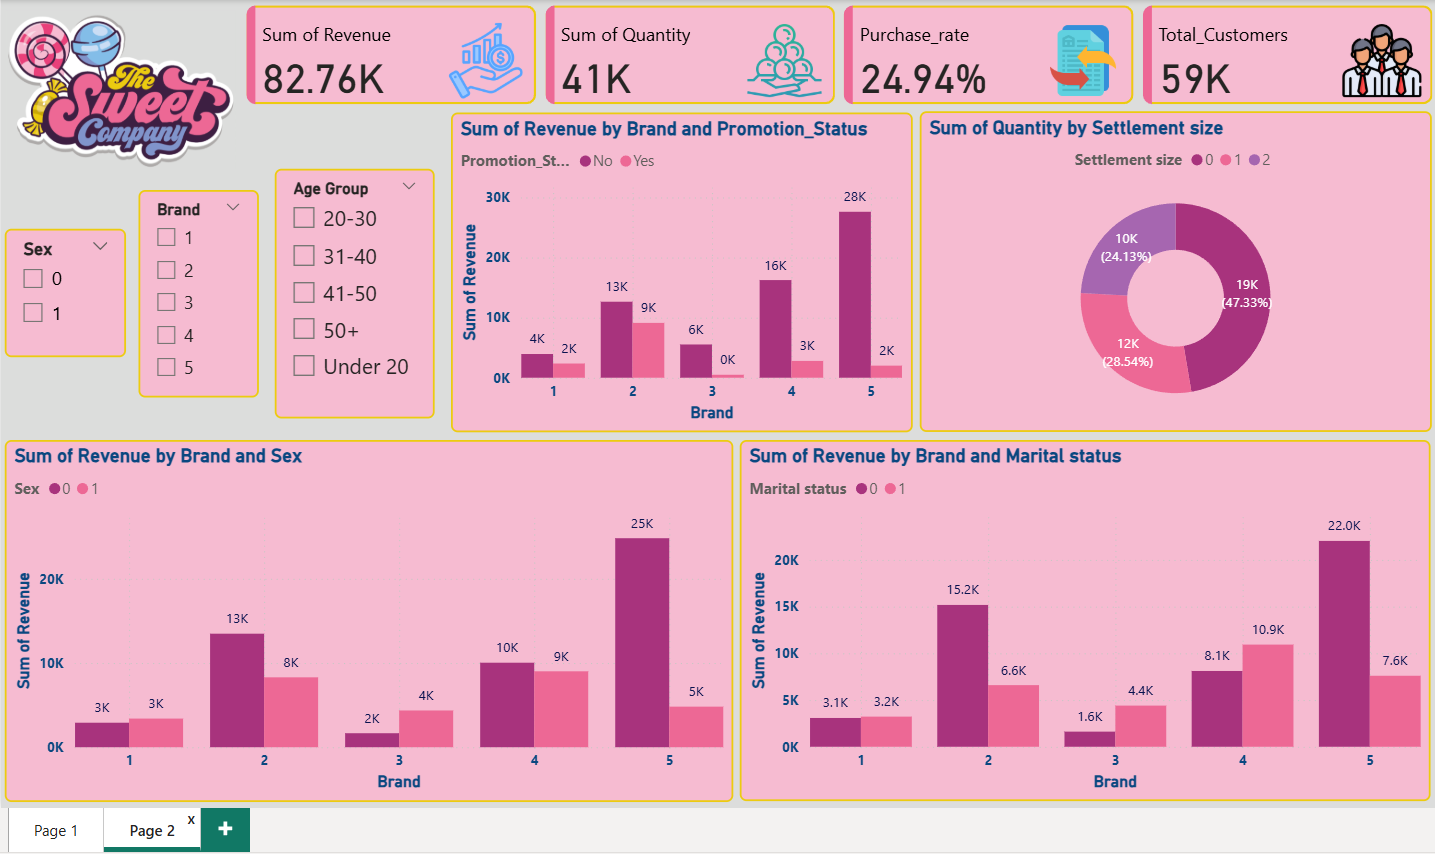

Layout of this report page (visuals, bound fields, positions):
{"tool":"powerbi","page":{"name":"Page 2","canvas":[1280,720],"ordinal":1},"visuals":[{"type":"clusteredColumnChart","fields":{"Category":["Sheet1.Brand"],"Y":["Sum(Sheet1.Revenue)"],"Series":["Sheet1.Promotion_Status"]},"box":[400.5,100.1,411.4,284.7],"z":2000},{"type":"clusteredColumnChart","fields":{"Category":["Sheet1.Brand"],"Series":["Sheet1.Sex"],"Y":["Sum(Sheet1.Revenue)"]},"box":[3.6,392.1,649.1,322.1],"z":3000},{"type":"clusteredColumnChart","fields":{"Category":["Sheet1.Brand"],"Y":["Sum(Sheet1.Revenue)"],"Series":["Sheet1.Marital status"]},"box":[657.9,391.8,615.6,321.7],"z":4000},{"type":"donutChart","fields":{"Category":["Sheet1.Settlement size"],"Y":["Sum(Sheet1.Quantity)"]},"box":[818,98.9,456,285.9],"z":5000},{"type":"cardVisual","fields":{"Data":["Sum(Sheet1.Revenue)","Sum(Sheet1.Quantity)","Sheet1.Purchase_rate","Sheet1.Total_Customers"]},"box":[213.8,0,1066.2,98.8],"z":6000},{"type":"image","box":[0,0,213.5,159.3],"z":7000},{"type":"slicer","fields":{"Values":["Sheet1.Brand"]},"box":[122.4,169.2,106.9,184.8],"z":8000},{"type":"slicer","fields":{"Values":["Sheet1.Sex"]},"box":[3.3,203.7,108,114.7],"z":9000},{"type":"slicer","fields":{"Values":["Sheet1.Age Group"]},"box":[243.8,150.3,142.5,222.6],"z":10000}]}

Visuals, with their boxes on the page's 1280x720 design canvas (x1, y1, x2, y2). These are canvas units, not pixel positions in the 1435x854 screenshot, which may show the page scaled, cropped or inside an application window:
clusteredColumnChart - Sheet1.Brand x Sum(Sheet1.Revenue): 400/100/812/385
clusteredColumnChart - Sheet1.Brand x Sheet1.Sex: 4/392/653/714
clusteredColumnChart - Sheet1.Brand x Sum(Sheet1.Revenue): 658/392/1274/714
donutChart - Sheet1.Settlement size x Sum(Sheet1.Quantity): 818/99/1274/385
cardVisual - Sum(Sheet1.Revenue) x Sum(Sheet1.Quantity): 214/0/1280/99
image: 0/0/214/159
slicer - Sheet1.Brand: 122/169/229/354
slicer - Sheet1.Sex: 3/204/111/318
slicer - Sheet1.Age Group: 244/150/386/373
